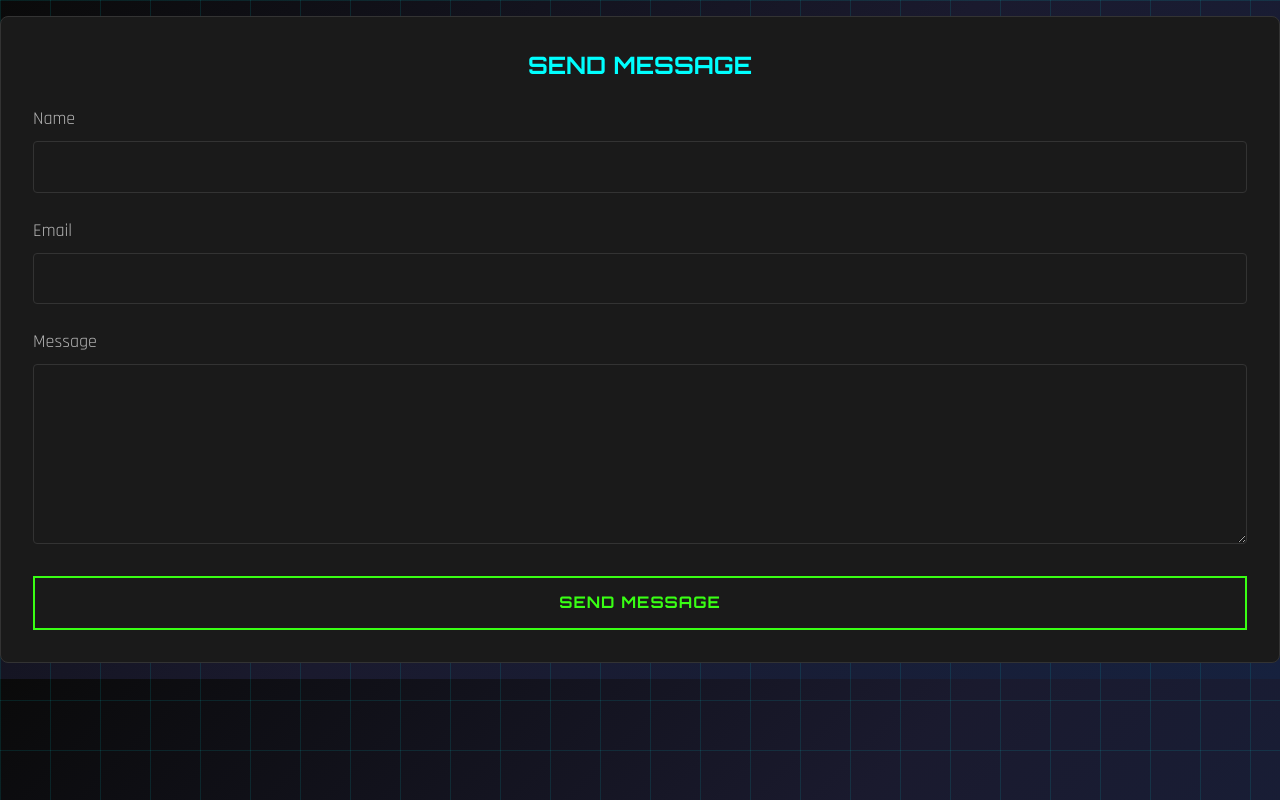
Test: Contact Form Integration › displays error message when submission fails
# Fill in the form
In the field labelled "Name": (640, 167) [33,141,1247,193], type "Jane Doe"
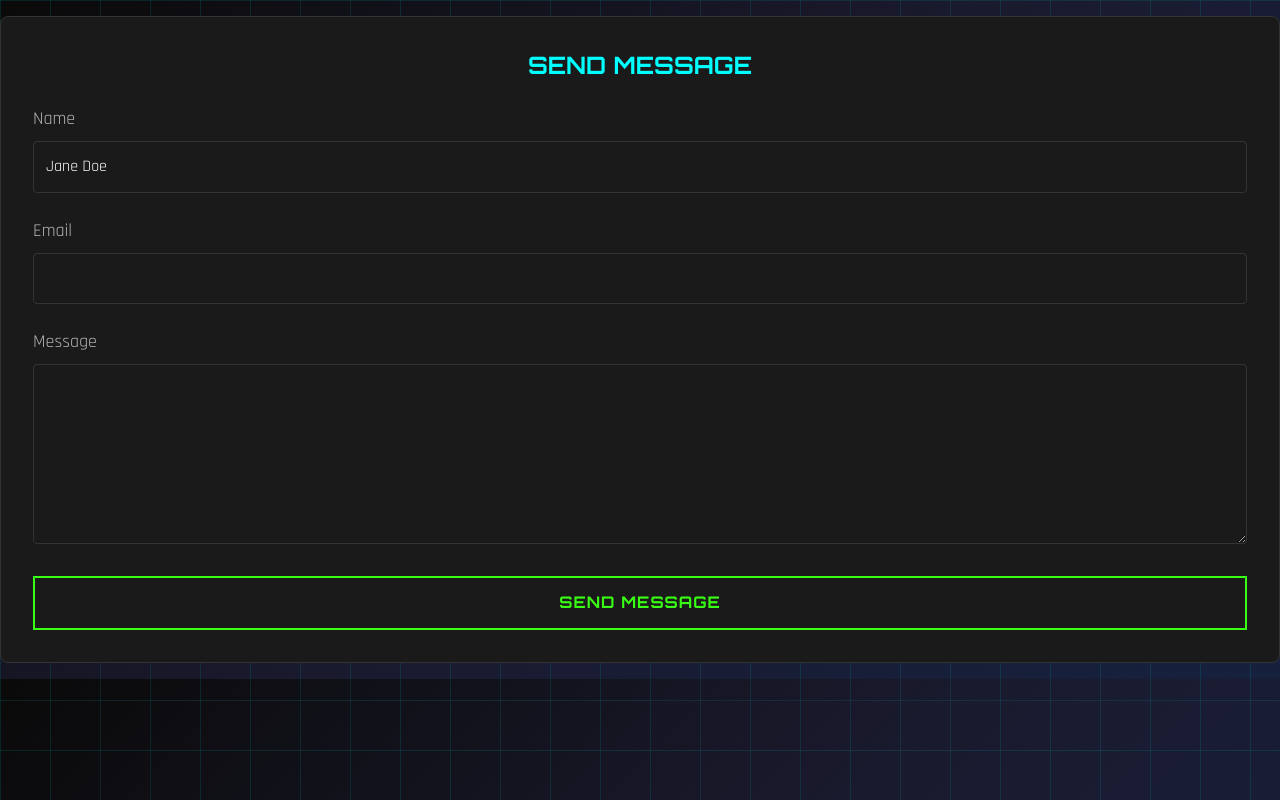
In the field labelled "Email": (640, 278) [33,253,1247,304], type "jane@example.com"
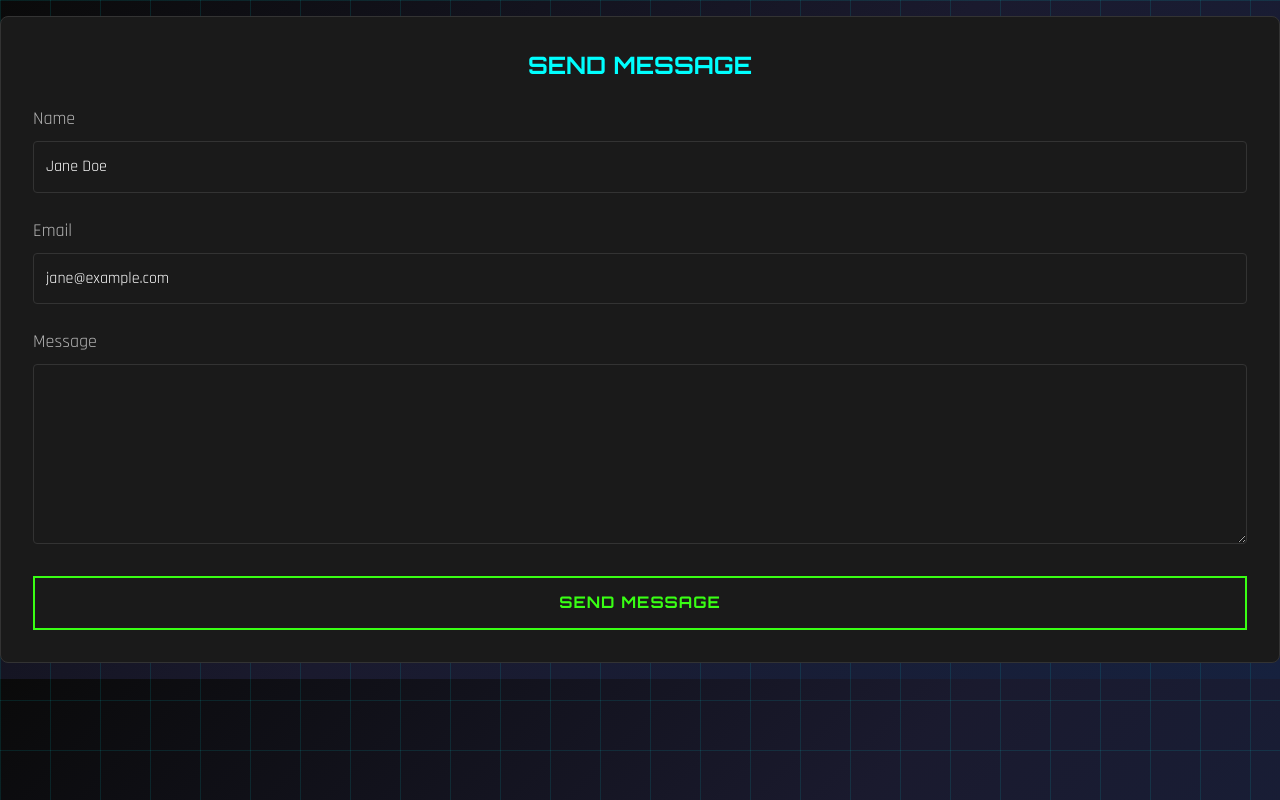
In the text box labelled "Message": (640, 454) [33,364,1247,544], type "Test message"
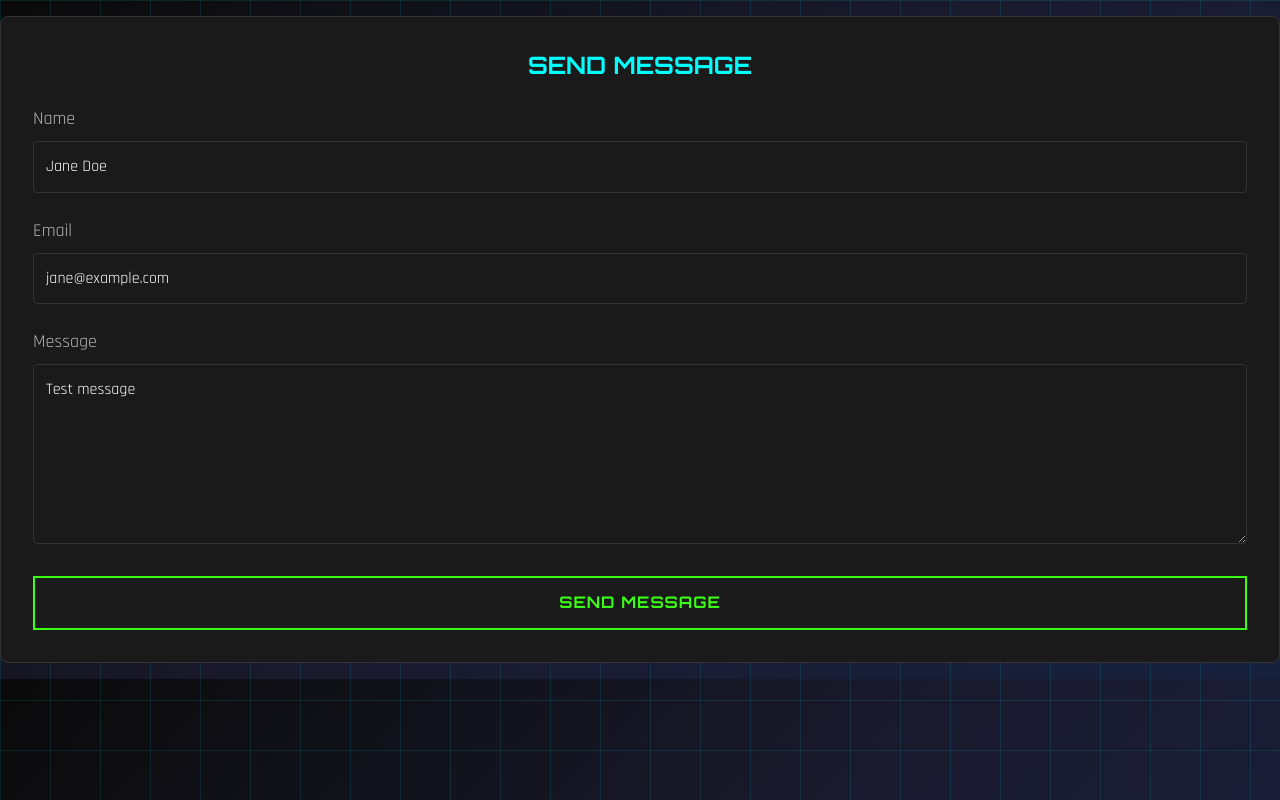
# Submit the form
Click the button "SEND MESSAGE": (640, 603) [33,576,1247,630]
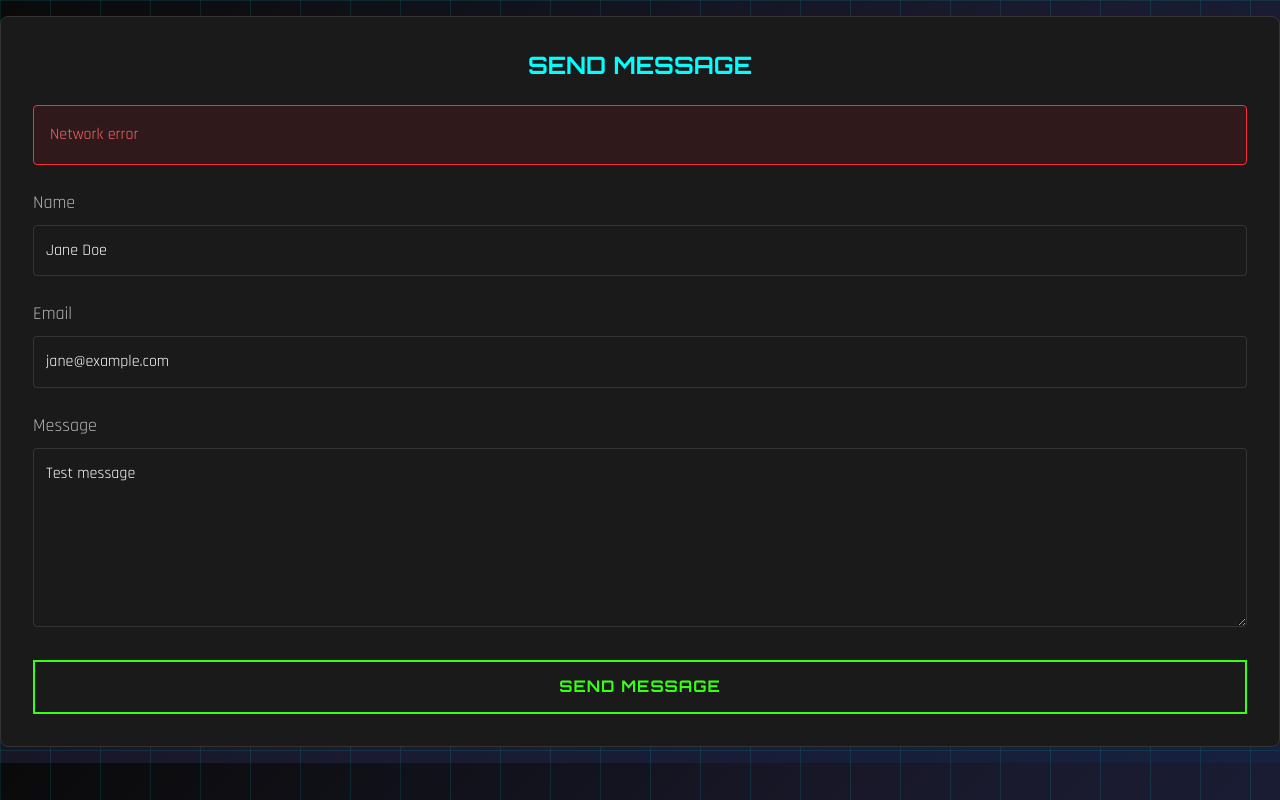
Expected: the text "Network error" is shown, [33,105,1247,165]
